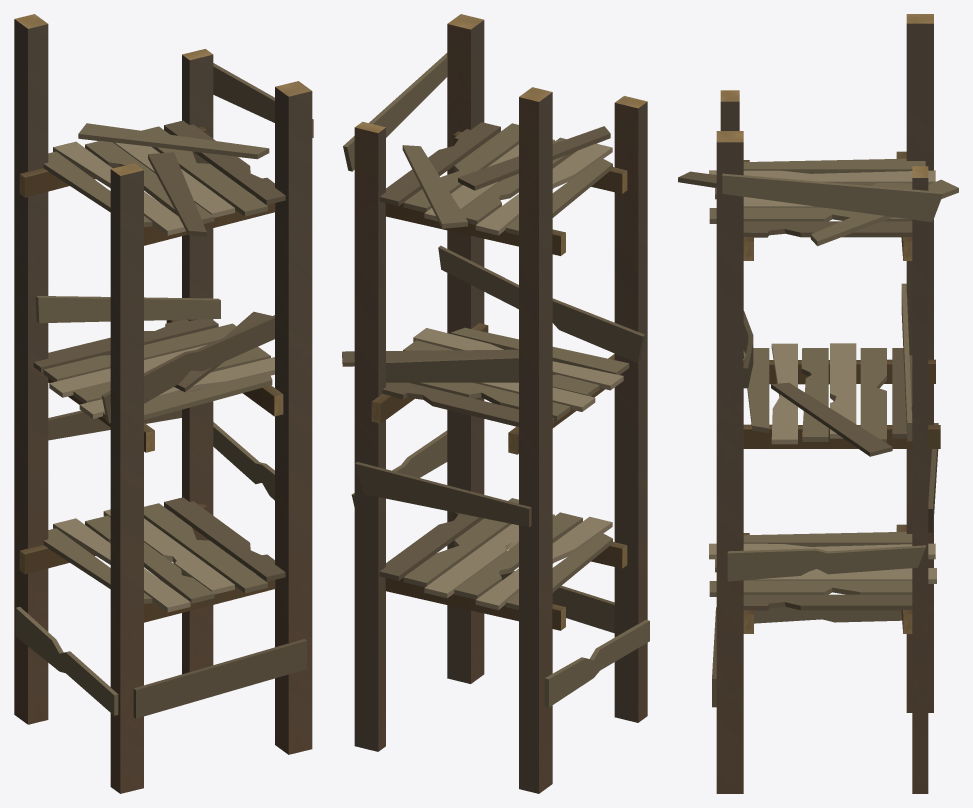
File: Scaffold_2_LOD1.fbx
The picture shows the model from 3 angles, left to right: view 1: azimuth 30°, elevation 25°; view 2: azimuth 150°, elevation 25°; view 3: azimuth 270°, elevation 25°; orthographic projection.
Visible parts, largest first — view 1: polySurface9790; view 2: polySurface9790; view 3: polySurface9790.
Part boxes in pixels (bbox=[...]): polySurface9790: bbox=[14, 14, 313, 793]; polySurface9790: bbox=[342, 14, 649, 793]; polySurface9790: bbox=[678, 14, 958, 793].
Bounding box in the file's own units: 345 × 960 × 354.
